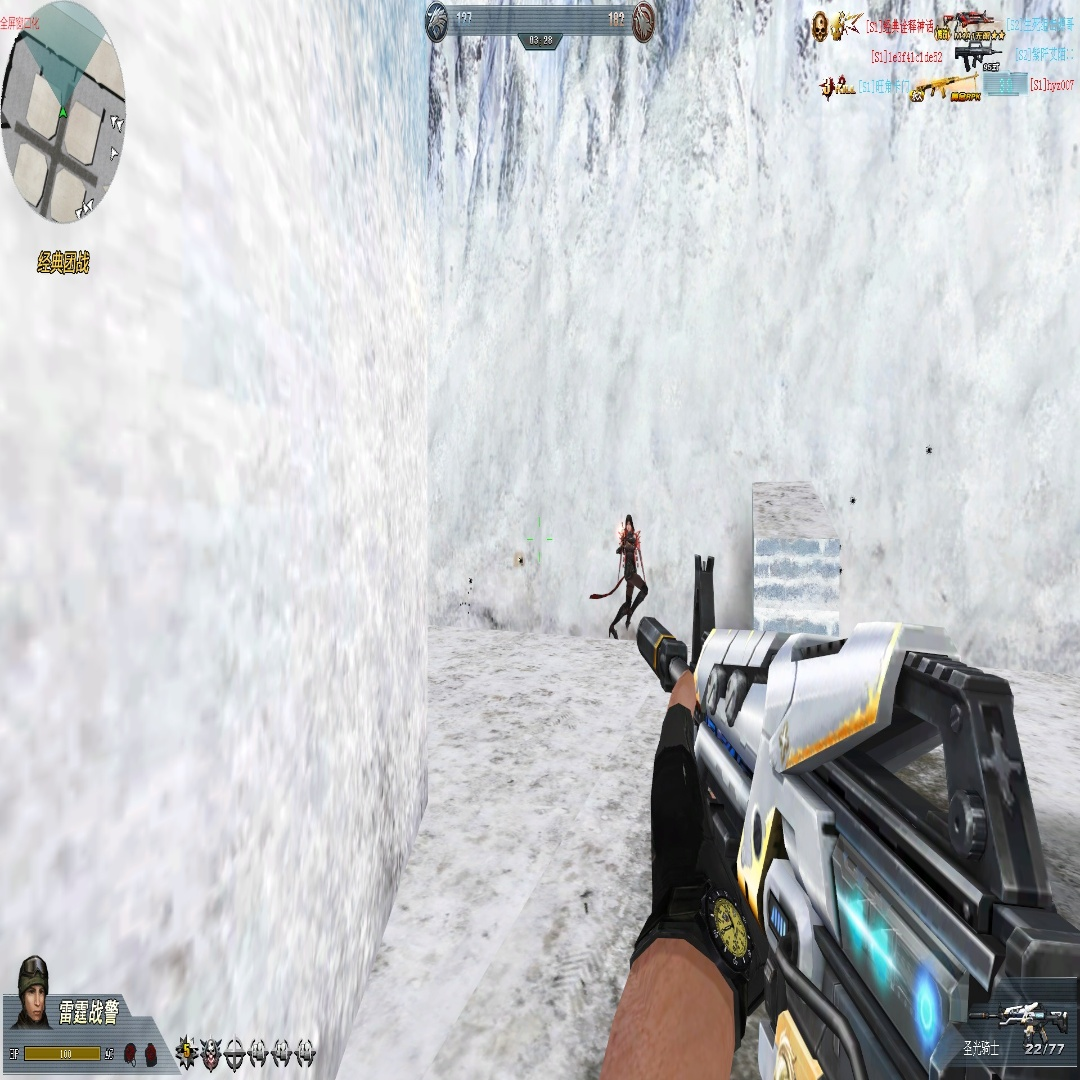head: (624, 515, 634, 533)
t: (620, 514, 638, 636)
